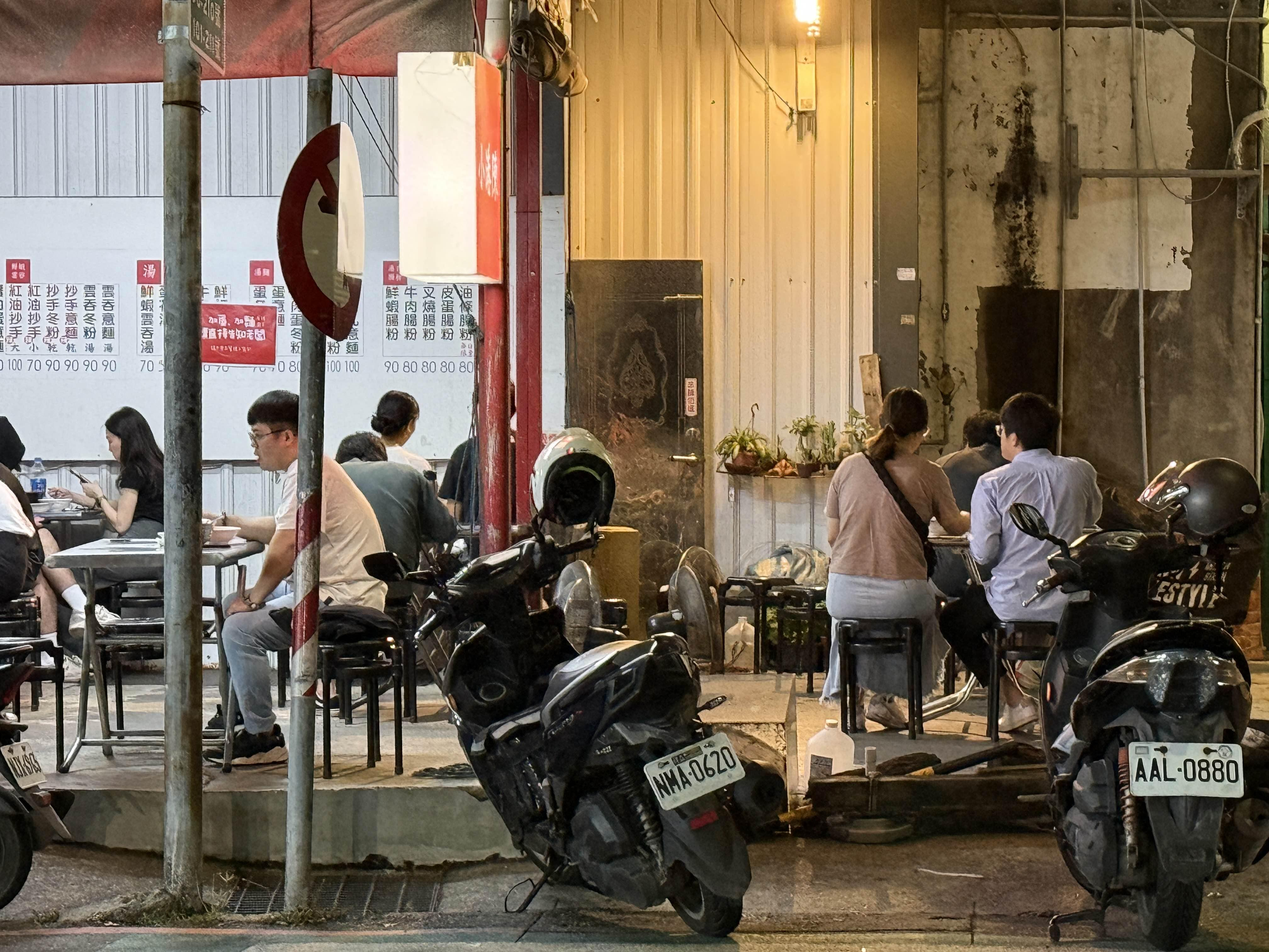NoHelmet: (244, 389, 299, 474), (1001, 392, 1062, 454), (876, 387, 931, 448), (371, 389, 420, 445), (100, 405, 150, 459)
NoVest: (836, 450, 934, 582)
